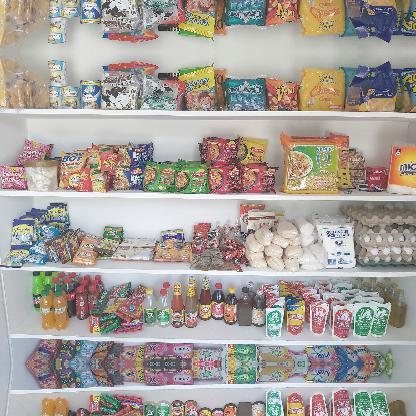Lady-s-Choice: (23, 160, 59, 190)
